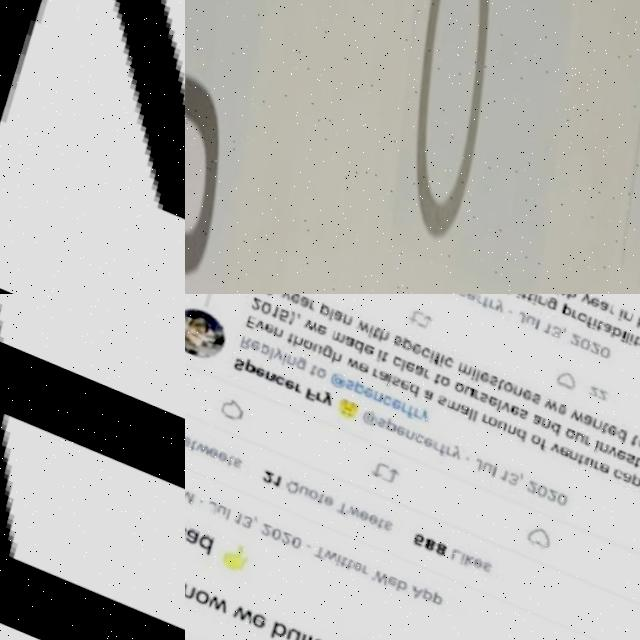0: (314, 0, 586, 277), (264, 523, 279, 540), (284, 531, 299, 548), (550, 484, 565, 501), (257, 297, 272, 313), (596, 335, 610, 352), (531, 476, 544, 492), (577, 328, 589, 344)
1: (228, 509, 239, 524), (267, 471, 278, 486), (267, 301, 278, 316), (495, 460, 504, 476), (540, 313, 549, 328)
2: (256, 466, 273, 484), (254, 519, 269, 536), (274, 527, 289, 544), (540, 480, 555, 497), (566, 323, 579, 340), (247, 294, 261, 309), (586, 332, 599, 348), (522, 472, 534, 489), (593, 379, 605, 394), (586, 376, 597, 391)
3: (591, 0, 640, 294), (236, 511, 251, 528), (547, 316, 562, 333), (503, 463, 516, 480)
5: (185, 43, 292, 294), (275, 304, 290, 321), (408, 527, 422, 544)
8: (417, 531, 436, 550), (428, 535, 445, 553)
A: (403, 579, 420, 597), (454, 397, 468, 411), (330, 306, 344, 320), (578, 405, 592, 419), (373, 365, 386, 379), (185, 526, 195, 544), (420, 382, 431, 397), (411, 359, 423, 372), (595, 294, 609, 305), (617, 463, 629, 475), (528, 406, 540, 418), (599, 313, 611, 325), (342, 331, 353, 344), (298, 294, 308, 305)
B: (263, 617, 284, 640), (388, 574, 403, 591), (608, 316, 621, 332), (634, 305, 640, 322)
C: (439, 350, 453, 364), (388, 349, 401, 363), (409, 428, 422, 440), (609, 460, 620, 473), (416, 342, 429, 353), (271, 372, 283, 383), (379, 391, 389, 401)
D: (190, 531, 211, 555), (403, 377, 418, 394), (349, 334, 364, 351), (545, 413, 558, 430), (512, 421, 525, 437), (612, 420, 625, 436)
E: (243, 609, 262, 628), (241, 312, 256, 329), (345, 556, 359, 570), (203, 444, 217, 458), (212, 448, 226, 462), (250, 363, 264, 377), (395, 373, 409, 387), (407, 337, 421, 351), (474, 364, 488, 378), (363, 508, 376, 522), (353, 357, 367, 370), (359, 337, 372, 351), (603, 415, 615, 430), (467, 550, 479, 563), (391, 419, 404, 431), (246, 337, 259, 349), (359, 382, 371, 395), (555, 438, 567, 451), (401, 356, 414, 368), (612, 439, 624, 452), (517, 382, 529, 395), (553, 396, 565, 409), (381, 570, 393, 582), (280, 376, 292, 388), (261, 320, 273, 332), (594, 454, 606, 466), (319, 490, 330, 503), (484, 388, 495, 401), (507, 397, 518, 410), (354, 505, 365, 517), (419, 432, 431, 443), (387, 394, 399, 405), (314, 320, 325, 332), (286, 294, 299, 301), (587, 294, 599, 300), (185, 432, 188, 446)
F: (0, 294, 185, 640), (301, 382, 313, 399), (434, 437, 445, 453), (401, 399, 411, 415), (534, 430, 544, 446), (429, 346, 439, 362), (583, 305, 592, 321), (477, 294, 488, 303)
G: (291, 352, 306, 369), (318, 339, 332, 356), (543, 294, 556, 303)
H: (289, 331, 302, 348), (327, 346, 340, 363), (375, 324, 387, 341), (185, 580, 192, 604)
I: (616, 319, 626, 335), (290, 627, 302, 640), (329, 550, 337, 565), (365, 320, 373, 335), (435, 348, 443, 363), (626, 323, 634, 338), (615, 299, 623, 313), (454, 545, 461, 560), (278, 350, 285, 365), (373, 344, 380, 359), (467, 361, 474, 376), (590, 308, 597, 323), (590, 431, 597, 445), (426, 345, 433, 359), (383, 370, 390, 382), (634, 470, 640, 484), (530, 294, 538, 299)
J: (468, 450, 481, 467), (512, 301, 525, 318), (202, 498, 214, 513)
K: (458, 547, 471, 564)
L: (446, 542, 457, 557), (325, 304, 333, 319), (621, 321, 629, 336), (467, 403, 475, 417), (265, 345, 273, 359), (493, 392, 500, 407), (220, 505, 227, 519), (464, 402, 471, 416), (397, 354, 404, 368), (470, 363, 477, 377), (531, 310, 538, 324), (296, 631, 306, 640), (487, 457, 493, 471)
M: (327, 327, 344, 340), (453, 357, 470, 370), (442, 393, 458, 406), (185, 486, 191, 505)
N: (261, 368, 274, 380), (508, 378, 520, 391), (369, 387, 381, 399), (620, 301, 631, 314), (283, 353, 295, 364), (400, 424, 411, 435), (503, 418, 514, 429), (537, 411, 548, 422), (595, 434, 606, 445), (272, 325, 282, 336), (565, 442, 575, 453), (339, 311, 350, 321), (589, 411, 599, 422), (534, 294, 545, 299)
O: (188, 586, 206, 605), (298, 335, 312, 349), (449, 374, 462, 387), (313, 364, 326, 376), (483, 410, 495, 422), (303, 484, 314, 497), (437, 369, 448, 382), (562, 419, 573, 432), (500, 375, 511, 386), (527, 428, 538, 438), (575, 304, 585, 315), (632, 428, 640, 441), (634, 450, 640, 462)
P: (348, 375, 363, 392), (380, 413, 394, 429), (316, 298, 330, 314), (426, 585, 439, 602), (626, 464, 639, 481), (241, 356, 254, 372), (256, 338, 269, 354), (398, 331, 411, 347), (417, 582, 428, 597), (560, 295, 571, 309)
Q: (279, 474, 298, 493)
R: (235, 332, 250, 349), (356, 560, 366, 572), (311, 388, 321, 399), (368, 363, 377, 375), (420, 362, 429, 374), (291, 380, 300, 391), (428, 435, 437, 446), (477, 407, 486, 418), (588, 452, 597, 463), (470, 383, 479, 394), (580, 428, 589, 439), (306, 297, 315, 308), (606, 296, 615, 307), (441, 439, 449, 451), (409, 403, 418, 413), (397, 398, 405, 408), (485, 294, 494, 302), (569, 302, 576, 312), (474, 294, 481, 297)
S: (229, 354, 243, 370), (432, 388, 445, 402), (621, 442, 633, 457), (475, 384, 487, 397), (514, 401, 526, 414), (389, 330, 401, 343), (228, 454, 239, 467), (377, 515, 388, 528), (476, 554, 487, 567), (373, 412, 384, 425), (528, 386, 539, 398), (387, 371, 398, 382), (341, 376, 352, 386), (486, 370, 496, 381)
T: (307, 540, 322, 557), (330, 497, 345, 514), (371, 512, 381, 528), (333, 551, 344, 565), (305, 360, 316, 374), (628, 447, 639, 461), (595, 413, 606, 427), (339, 553, 349, 568), (220, 452, 231, 465), (312, 488, 322, 502), (283, 329, 293, 343), (572, 445, 582, 459), (377, 346, 387, 360), (430, 367, 440, 381), (369, 322, 379, 336), (630, 325, 640, 339), (626, 425, 636, 439), (593, 311, 603, 324), (185, 437, 194, 451), (493, 372, 502, 386), (302, 634, 316, 640)
U: (278, 622, 297, 640), (293, 480, 307, 494), (211, 501, 223, 514), (309, 340, 322, 352), (579, 448, 591, 461), (460, 378, 472, 391), (493, 413, 504, 426), (571, 423, 582, 436), (479, 455, 489, 466), (524, 308, 534, 318)
V: (545, 435, 557, 447), (497, 395, 508, 406), (252, 317, 263, 327), (603, 438, 613, 449)
W: (0, 0, 185, 294), (226, 601, 250, 623), (201, 592, 225, 613), (364, 563, 385, 582), (300, 314, 317, 329), (353, 316, 370, 331), (191, 439, 207, 454), (342, 500, 358, 515), (342, 352, 358, 367), (540, 390, 556, 405), (316, 546, 333, 559), (566, 402, 582, 415)
Y: (318, 387, 333, 404), (447, 439, 460, 456), (269, 342, 282, 359), (415, 401, 428, 418), (490, 294, 505, 307), (635, 323, 640, 340), (278, 294, 292, 299)
